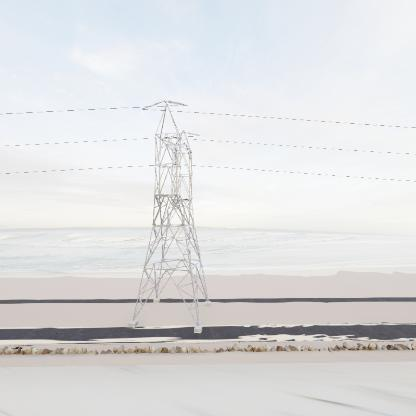tower: (128, 97, 212, 338)
